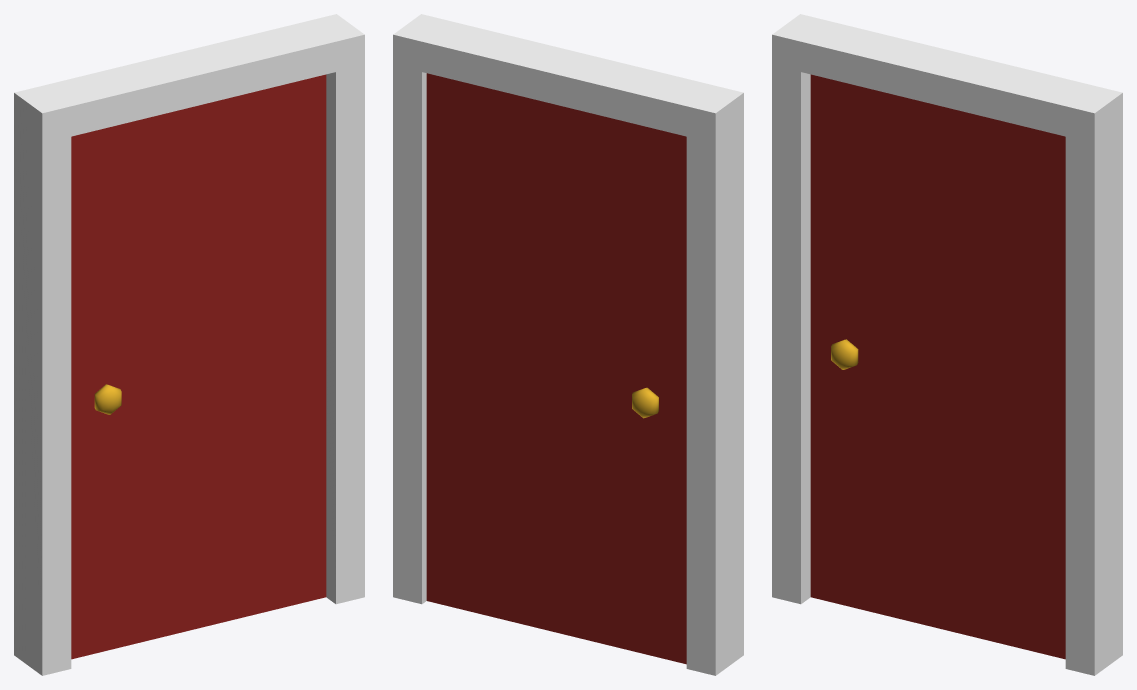
File: locked_door.glb
3 views of the same model, side by side, from view 1: azimuth 30°, elevation 25°; view 2: azimuth 150°, elevation 25°; view 3: azimuth 330°, elevation 25° (orthographic).
Visible parts, largest first — view 1: door_locked, door_frame_locked; view 2: door_locked, door_frame_locked; view 3: door_locked, door_frame_locked.
Part boxes in pixels (x1,y1,x2,y2): door_locked: [71, 74, 326, 659]; door_frame_locked: [14, 14, 364, 675]; door_locked: [426, 73, 686, 664]; door_frame_locked: [393, 14, 743, 675]; door_locked: [810, 74, 1065, 659]; door_frame_locked: [772, 14, 1122, 675].
Size of the model in its own units: 1.32 by 2.2 by 0.2616.
